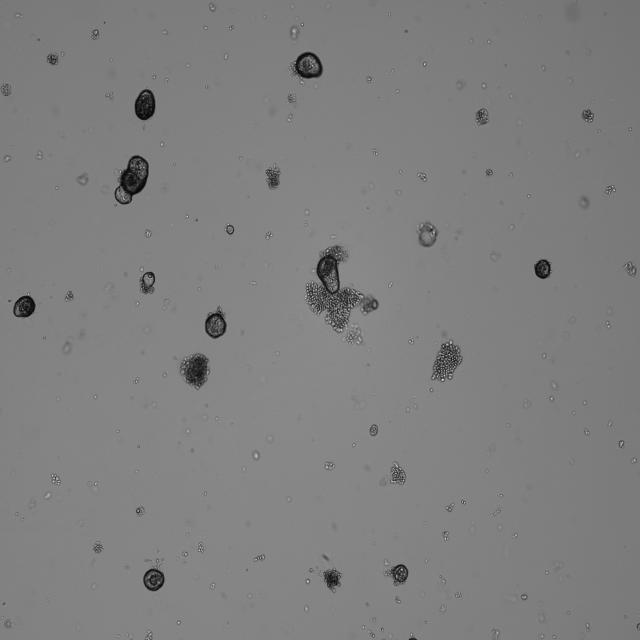alive: (113, 154, 150, 206), (294, 51, 324, 81), (133, 88, 156, 122), (204, 310, 228, 340), (140, 568, 167, 594), (13, 294, 37, 320), (531, 256, 554, 280)
dead: (429, 340, 464, 385), (179, 352, 211, 391), (321, 566, 344, 595), (387, 460, 408, 486), (474, 106, 490, 128), (581, 108, 595, 124)
